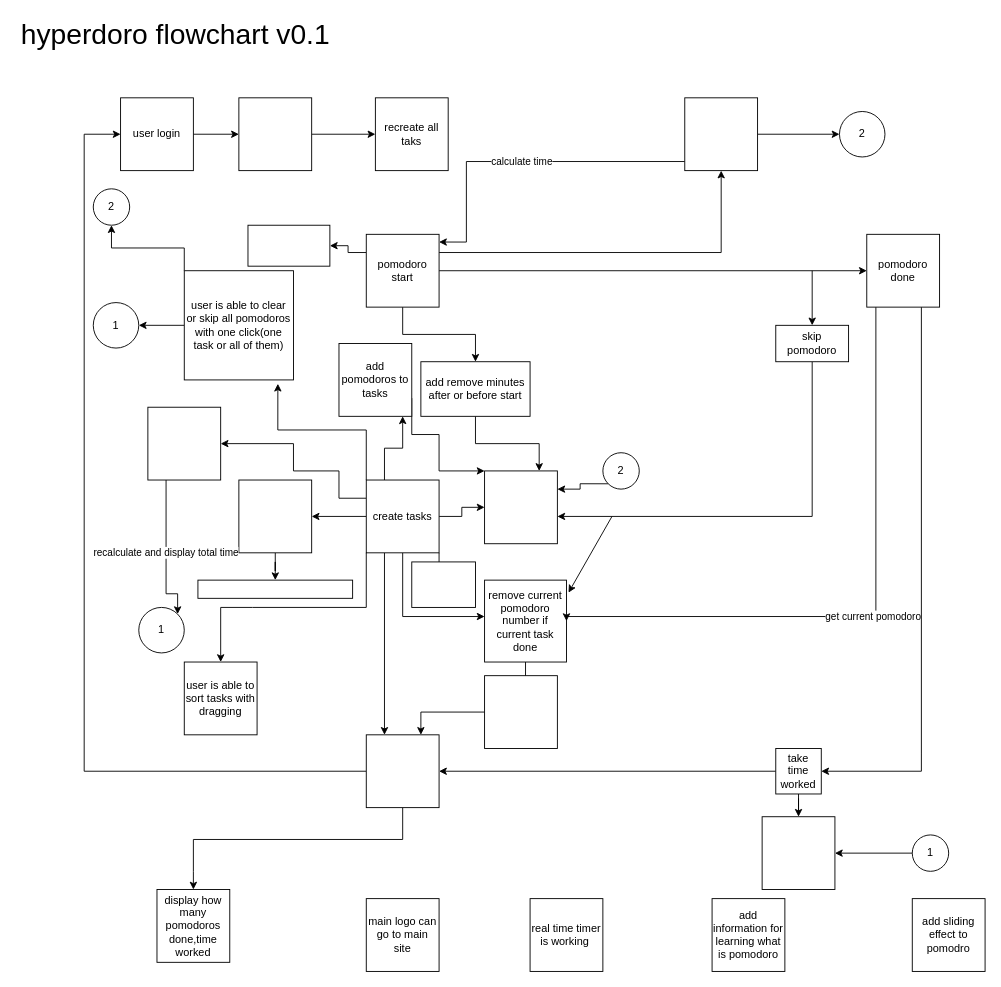
This 1001x987 diagram has some shape labels left out. Each missing label, with the centre of its shape:
calculate and display task times and total time: the point at 520,507
change current pomodoro: the point at 275,588
clear tasks: the point at 275,134
display total time worked: the point at 798,853
if pomodoro num reaches 0 delete task: the point at 443,584
pomodoro reset: the point at 288,245
pomodoro stop: the point at 721,134
take how many pomodoros done and task name: the point at 520,711
take pomodoro datas: the point at 402,771
user is able to choose current task: the point at 275,516
user is able to clear pomodoro(not calculated as done): the point at 184,443
